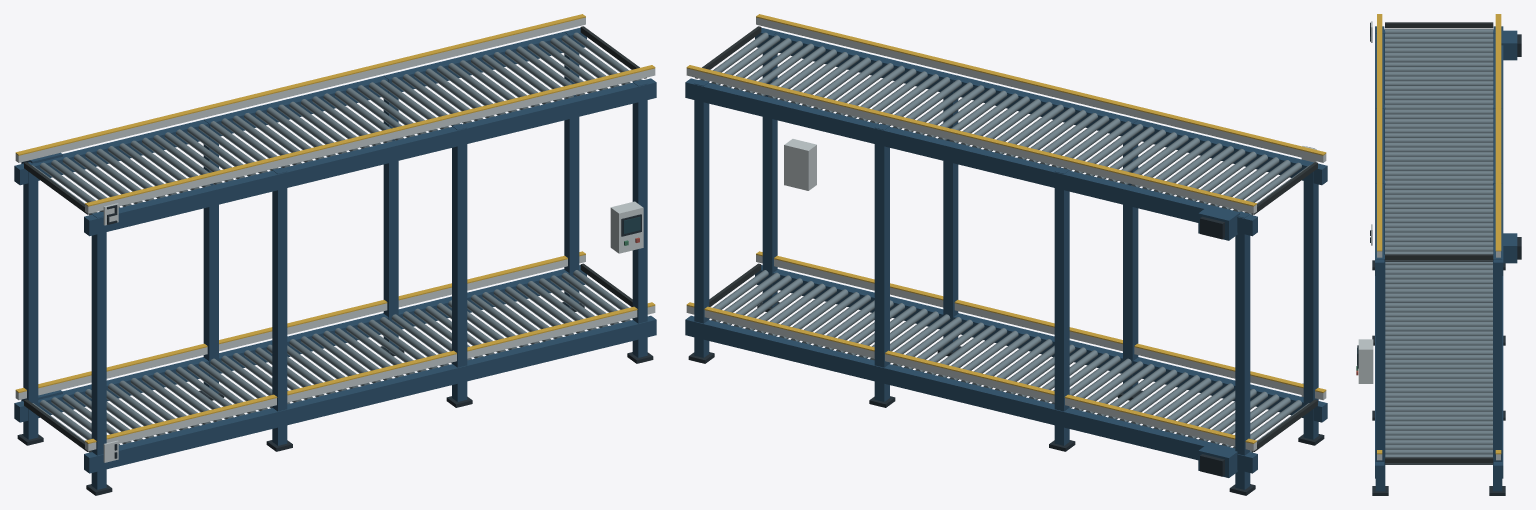
Rendered from double-deck-conveyor.glb.
3 views of the same model, side by side, from view 1: azimuth 30°, elevation 25°; view 2: azimuth 150°, elevation 25°; view 3: azimuth 270°, elevation 25° (orthographic). The views are drawn at different scales.
Visible parts, largest first — view 1: conveyor-level-2-surface (×2), conveyor-level-1-surface (×2), conveyor-frame-machineFrame, conveyor-level-2-machineFrame, conveyor-level-1-machineFrame, conveyor-level-2-warning, conveyor-level-1-warning, conveyor-control-panel-surface, conveyor-frame-surface, conveyor-level-2-rubber, conveyor-level-1-rubber; view 2: conveyor-level-2-surface (×2), conveyor-level-1-surface (×2), conveyor-frame-machineFrame, conveyor-level-2-machineFrame, conveyor-level-1-machineFrame, conveyor-level-2-warning, conveyor-level-1-warning, conveyor-control-panel-surface, conveyor-frame-surface, conveyor-level-2-rubber, conveyor-level-1-rubber; view 3: conveyor-level-2-surface, conveyor-level-1-surface, conveyor-frame-machineFrame, conveyor-level-2-machineFrame, conveyor-level-2-warning, conveyor-level-2-rubber, conveyor-level-1-machineFrame, conveyor-level-1-rubber, conveyor-control-panel-surface, conveyor-frame-surface.
Boxes of the visible parts, x1,y1,x2,y2 form: conveyor-level-2-surface (×2): [15, 17, 655, 225]; conveyor-level-1-surface (×2): [15, 255, 655, 462]; conveyor-frame-machineFrame: [23, 29, 647, 489]; conveyor-level-2-machineFrame: [14, 27, 656, 236]; conveyor-level-1-machineFrame: [14, 265, 656, 473]; conveyor-level-2-warning: [15, 14, 655, 206]; conveyor-level-1-warning: [15, 251, 655, 443]; conveyor-control-panel-surface: [610, 201, 643, 253]; conveyor-frame-surface: [17, 302, 653, 495]; conveyor-level-2-rubber: [24, 26, 646, 214]; conveyor-level-1-rubber: [24, 263, 632, 451]; conveyor-level-2-surface (×2): [686, 17, 1326, 215]; conveyor-level-1-surface (×2): [686, 255, 1326, 452]; conveyor-frame-machineFrame: [694, 29, 1318, 489]; conveyor-level-2-machineFrame: [685, 27, 1327, 240]; conveyor-level-1-machineFrame: [685, 265, 1327, 477]; conveyor-level-2-warning: [686, 14, 1326, 206]; conveyor-level-1-warning: [686, 251, 1326, 443]; conveyor-control-panel-surface: [784, 139, 816, 190]; conveyor-frame-surface: [688, 302, 1324, 495]; conveyor-level-2-rubber: [695, 26, 1317, 214]; conveyor-level-1-rubber: [709, 263, 1317, 451]; conveyor-level-2-surface: [1385, 29, 1493, 261]; conveyor-level-1-surface: [1385, 262, 1492, 464]; conveyor-frame-machineFrame: [1375, 29, 1502, 491]; conveyor-level-2-machineFrame: [1375, 26, 1517, 275]; conveyor-level-2-warning: [1377, 14, 1501, 251]; conveyor-level-2-rubber: [1385, 22, 1493, 260]; conveyor-level-1-machineFrame: [1375, 233, 1517, 478]; conveyor-level-1-rubber: [1385, 457, 1493, 463]; conveyor-control-panel-surface: [1358, 339, 1373, 383]; conveyor-frame-surface: [1372, 260, 1505, 495].
Bounding box in the file's own units: 6.5 × 3.17 × 1.92.
